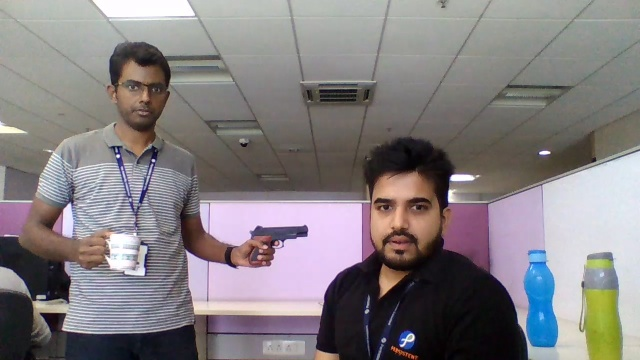gun: (247, 225, 308, 240)
